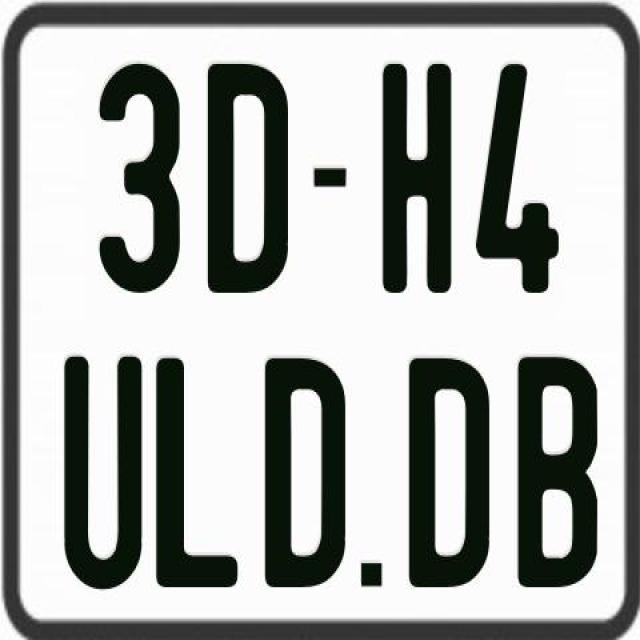3: (96, 59, 183, 296)
4: (476, 59, 566, 288)
B: (517, 356, 600, 594)
D: (206, 64, 294, 301), (406, 354, 490, 586), (266, 353, 346, 584)
H: (381, 62, 452, 298)
L: (153, 358, 239, 597)
U: (64, 352, 142, 590)
